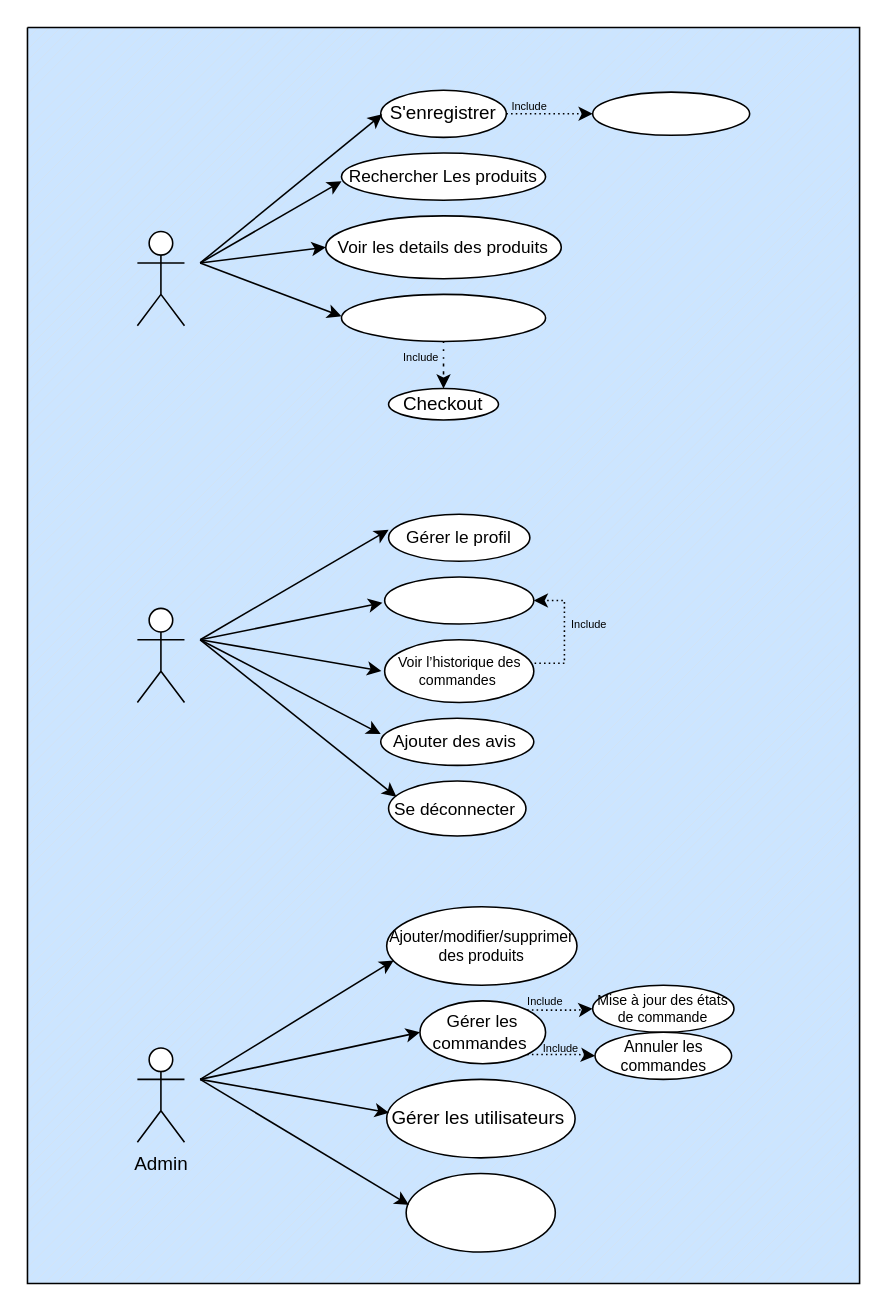
Image size: 887x1311. Some labels were removed from this diagram. The centre of each missing label's shape, as x and y in pixels:
"Ajouter au panier" goes at point (443, 317).
"Fournir adresse e-mail et un mot de passe" goes at point (670, 113).
"Suivre les commandes" goes at point (458, 599).
"Utilisateur (Enregistré)" goes at point (160, 655).
"Utilisateur (Non-Enregistré)" goes at point (160, 278).
"Voir les statistiques des commandes" goes at point (480, 1212).
